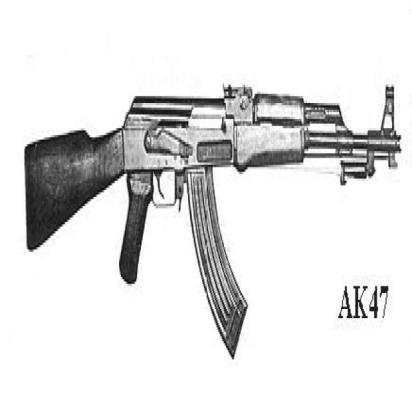Gun: (24, 69, 405, 373)
